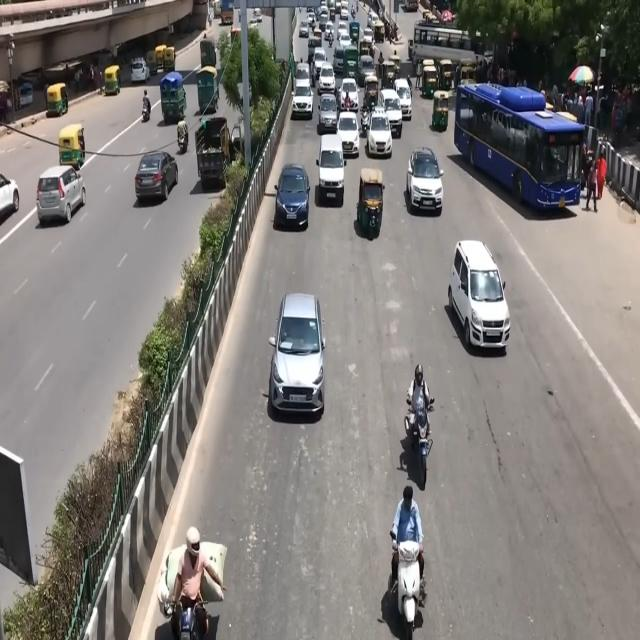auto: (357, 167, 385, 239), (58, 123, 86, 171), (431, 89, 450, 131), (46, 83, 68, 117), (362, 74, 380, 110), (421, 60, 438, 98), (381, 58, 398, 90), (439, 58, 455, 91), (104, 65, 121, 96), (459, 61, 477, 87), (154, 44, 167, 73), (163, 45, 176, 72), (146, 50, 158, 75)
bike-auto: (391, 534, 423, 640), (406, 364, 434, 448), (585, 156, 599, 212), (177, 117, 188, 152), (142, 90, 151, 122)
